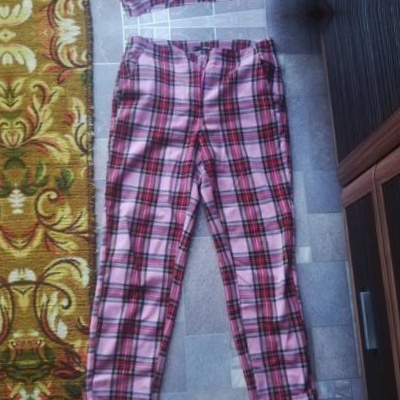Pants: (55, 23, 330, 400), (27, 0, 303, 23)
